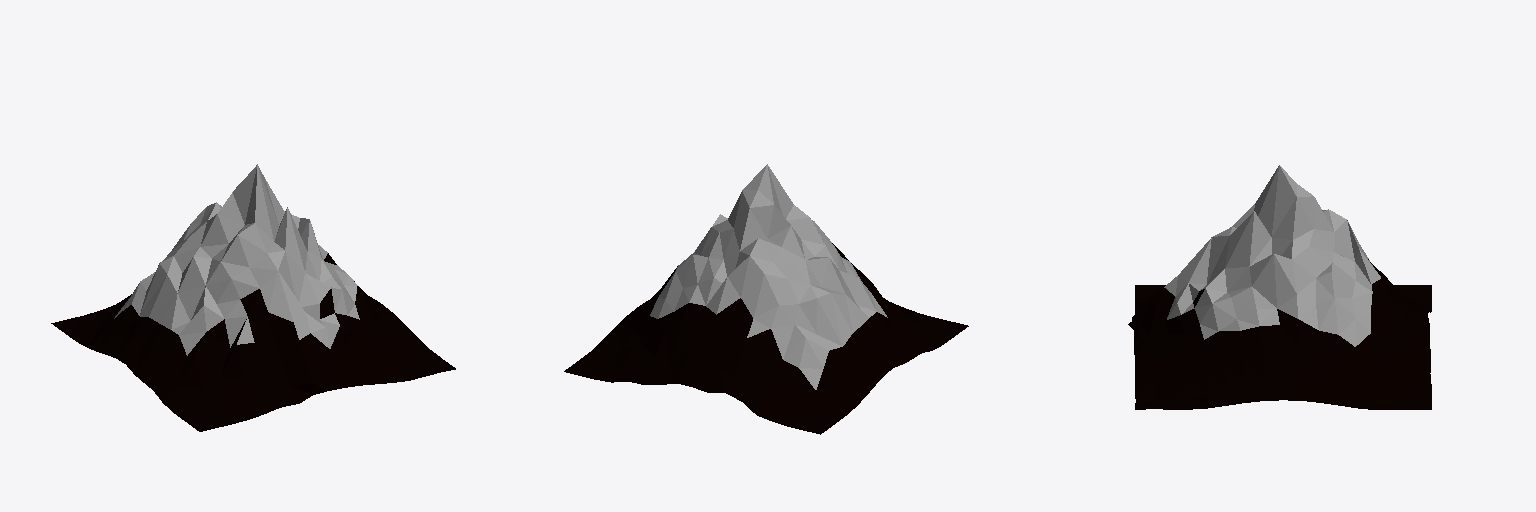
The model's file is FinalMountain.obj.
3 renders of one model, left to right at view 1: azimuth 30°, elevation 25°; view 2: azimuth 150°, elevation 25°; view 3: azimuth 270°, elevation 25°, orthographic.
Visible parts, largest first — view 1: Plane; view 2: Plane; view 3: Plane.
Part boxes in pixels (left/top/right/bottom): Plane: left=51, top=164, right=455, bottom=431; Plane: left=564, top=164, right=968, bottom=434; Plane: left=1128, top=165, right=1431, bottom=409.
Size of the model in its own units: 28.88 by 19.64 by 29.53.